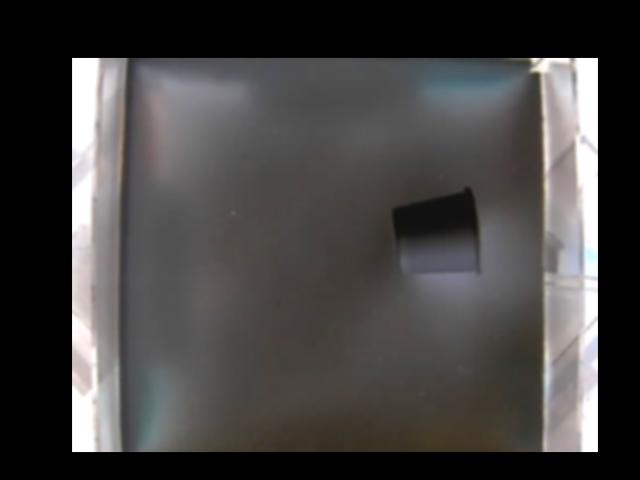Cup: (390, 185, 482, 278)
